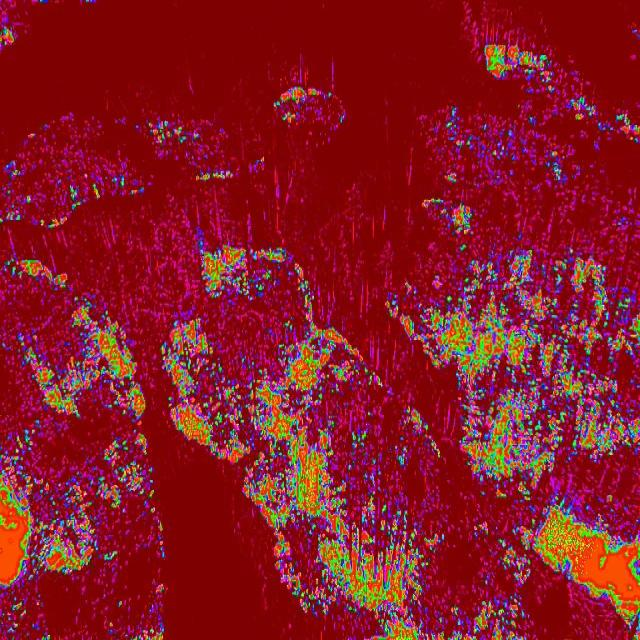fire: (163, 222, 640, 462), (0, 105, 163, 640), (270, 536, 640, 640), (241, 463, 640, 536), (430, 96, 588, 220), (163, 118, 253, 184), (276, 86, 347, 145), (475, 39, 560, 86), (613, 108, 640, 148), (0, 19, 18, 51)
